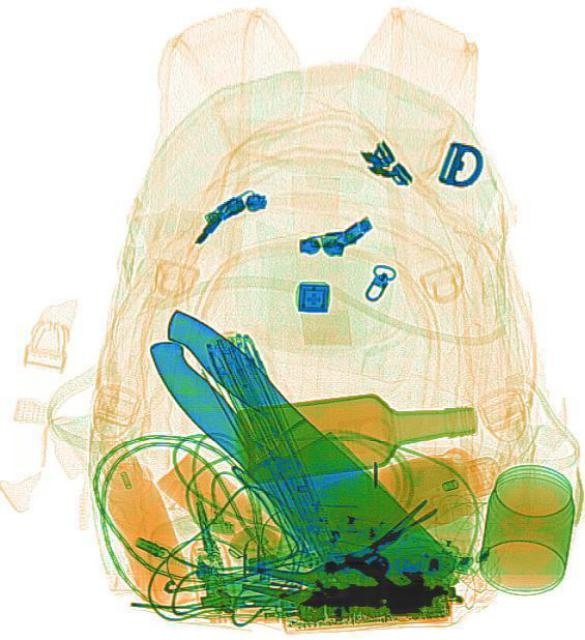Knife: (123, 290, 458, 630), (129, 295, 464, 623)
